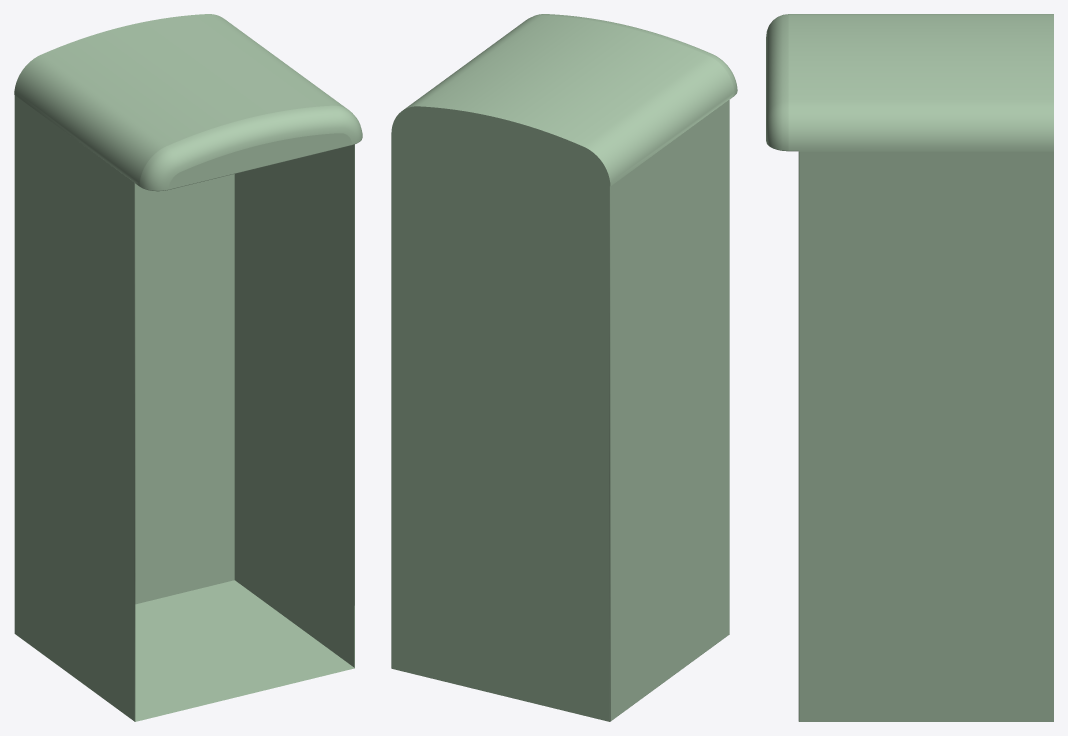
File: frame.dae
3 views of the same model, side by side, from view 1: azimuth 30°, elevation 25°; view 2: azimuth 150°, elevation 25°; view 3: azimuth 270°, elevation 25° (orthographic). The views are drawn at different scales.
Visible parts, largest first — view 1: group_3.190; view 2: group_3.190; view 3: group_3.190.
Boxes of the visible parts, <box> form: group_3.190: <box>14,14,362,721</box>; group_3.190: <box>391,14,737,721</box>; group_3.190: <box>766,14,1053,721</box>.
Bounding box in the file's own units: 0.6 × 0.64 × 1.51.
